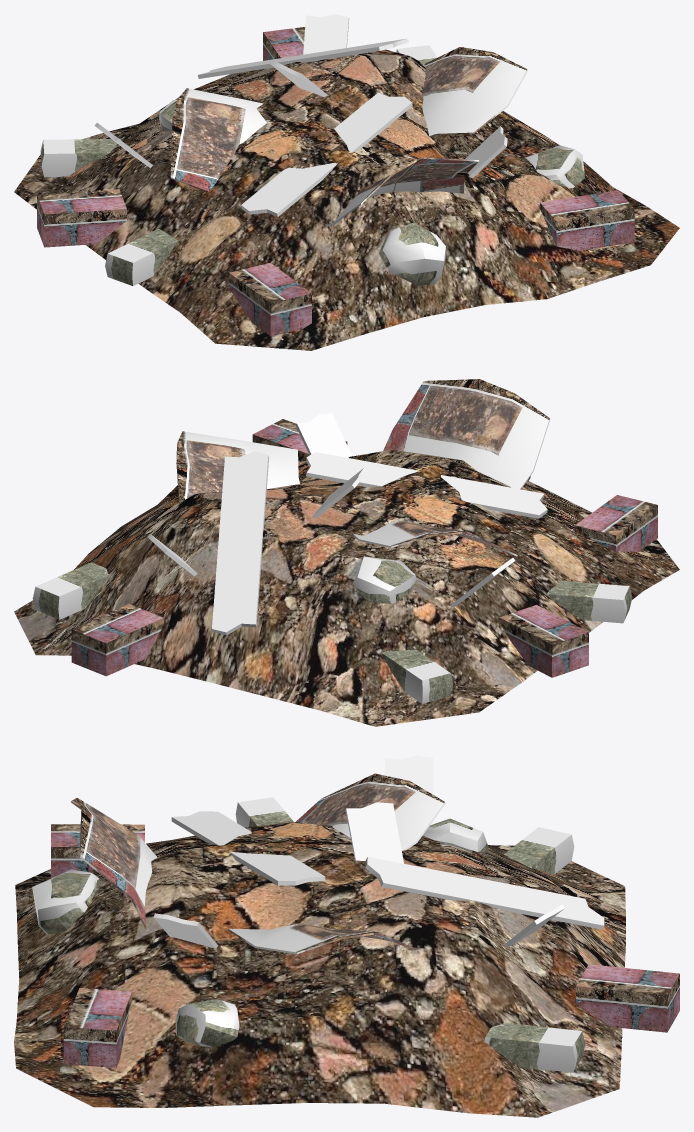
Rendered from smece_4.fbx.
The picture shows the model from 3 angles, top to bottom: view 1: azimuth 30°, elevation 25°; view 2: azimuth 150°, elevation 25°; view 3: azimuth 270°, elevation 25°; orthographic projection. The views are drawn at different scales.
Parts seen in each view (by area): view 1: Plane.006; view 2: Plane.006; view 3: Plane.006.
Part boxes in pixels (bbox=[...]): Plane.006: bbox=[14, 14, 679, 350]; Plane.006: bbox=[14, 379, 679, 726]; Plane.006: bbox=[14, 755, 679, 1117].
Bounding box in the file's own units: 354 × 101 × 358.
Materials: 1 (1 with a texture image).
